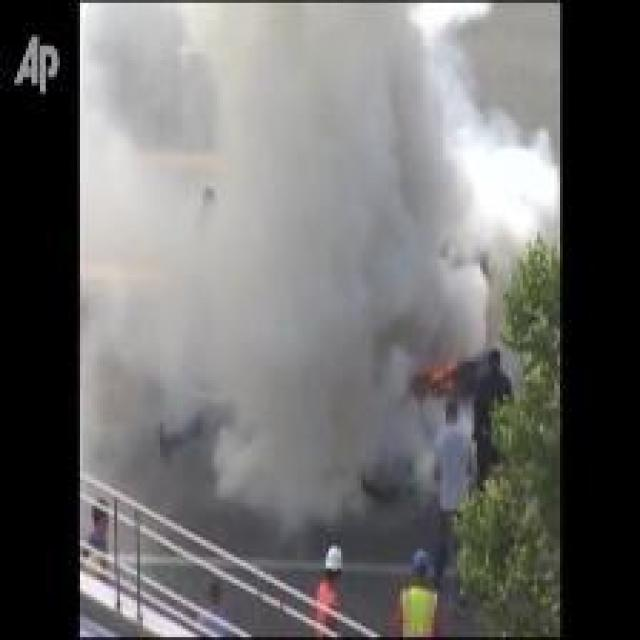smoke: (82, 6, 512, 499)
